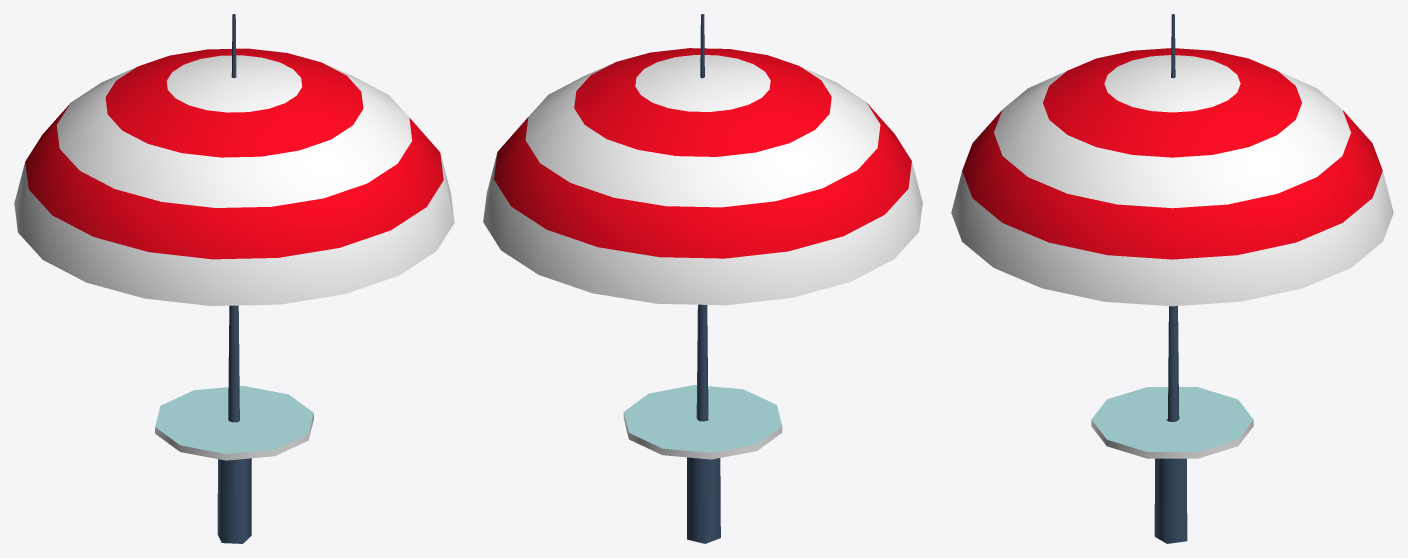
File: SM_Umbrella4.fbx
3 views of the same model, side by side, from view 1: azimuth 30°, elevation 25°; view 2: azimuth 150°, elevation 25°; view 3: azimuth 270°, elevation 25° (orthographic).
Parts seen in each view (by area): view 1: SM_Umbrella4; view 2: SM_Umbrella4; view 3: SM_Umbrella4.
Part boxes in pixels (box(x1,y1,x2,y2)): SM_Umbrella4: box(14, 14, 454, 543); SM_Umbrella4: box(483, 14, 922, 543); SM_Umbrella4: box(951, 14, 1393, 543).
Bounding box in the file's own units: 312 × 406 × 312.
